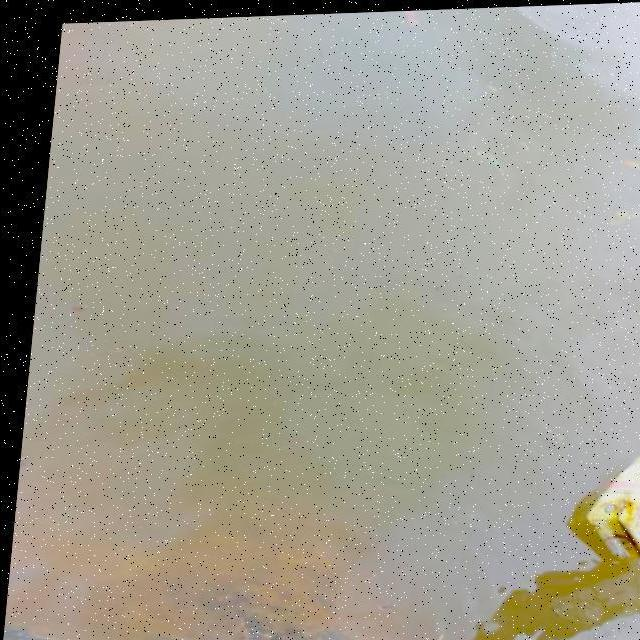Box: (576, 441, 640, 572)
